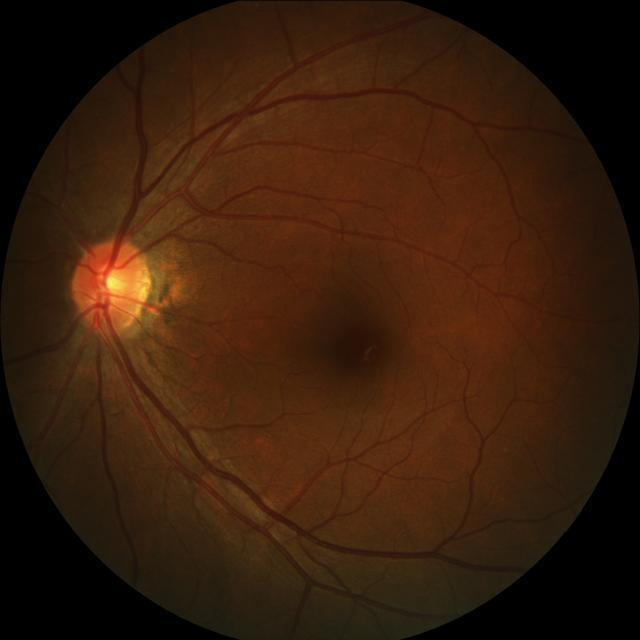OC: (97, 264, 128, 295)
OD: (70, 238, 148, 332)
